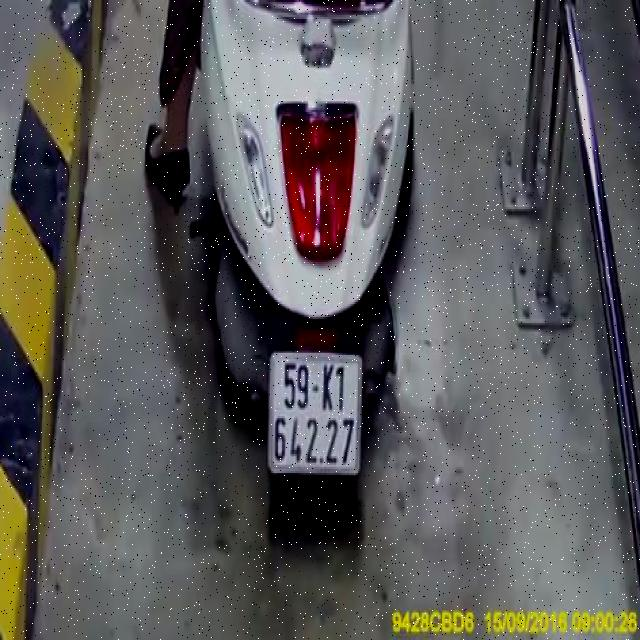1: (336, 364, 346, 413)
2: (305, 416, 319, 467), (325, 417, 339, 466)
4: (289, 416, 303, 464)
5: (284, 362, 297, 409)
6: (273, 416, 288, 462)
7: (342, 416, 356, 466)
9: (297, 362, 309, 411)
K: (321, 361, 335, 413)
